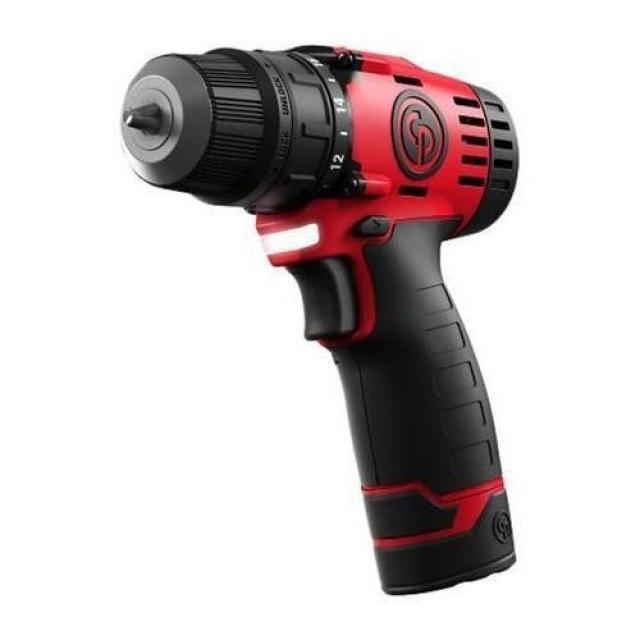drill: (118, 41, 520, 600)
